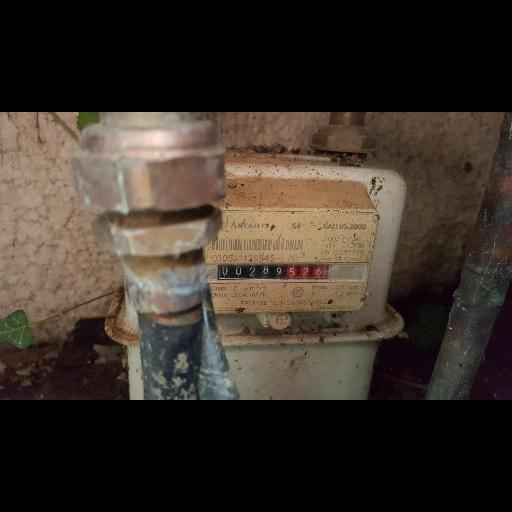0: (220, 265, 233, 279), (233, 266, 246, 279)
2: (246, 266, 260, 279), (300, 265, 312, 278)
5: (286, 265, 298, 278)
6: (313, 265, 326, 278)
8: (260, 266, 273, 279)
9: (273, 266, 285, 279)
border_water_meter_number: (217, 263, 330, 281)
